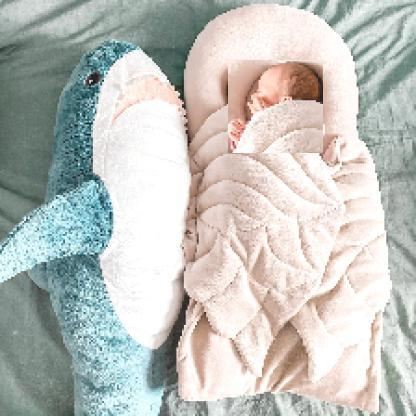child: (229, 61, 325, 155)
